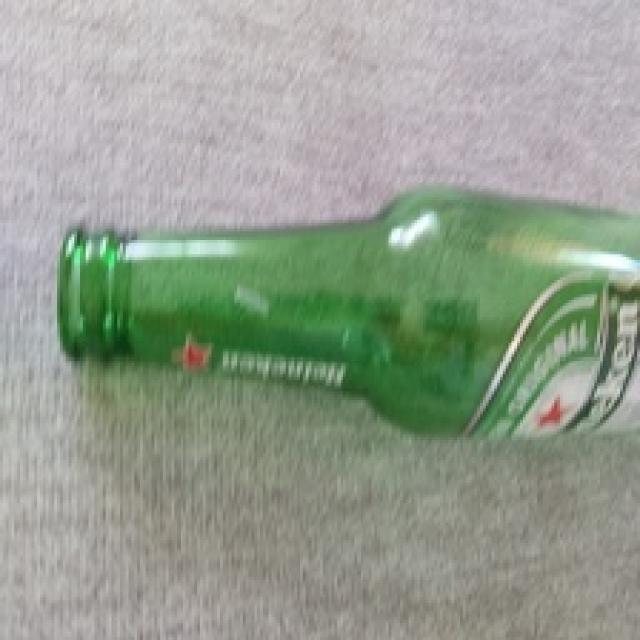Glass: (57, 184, 640, 435)
